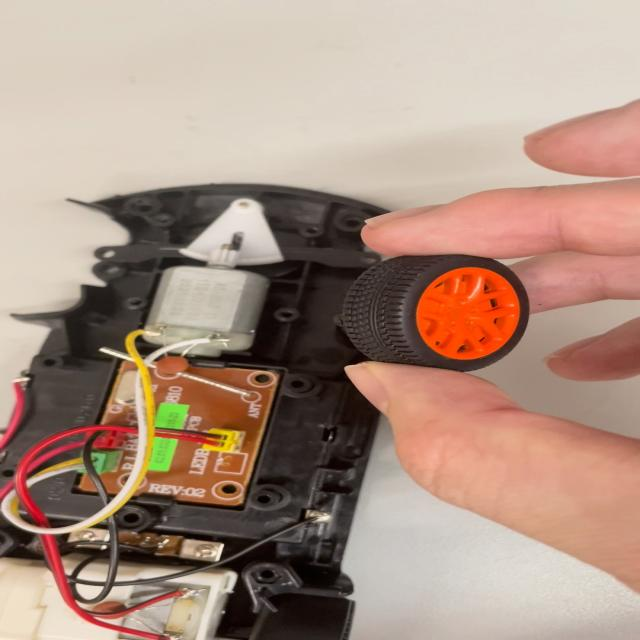motor: (130, 244, 274, 366)
wheel: (338, 253, 529, 368)
